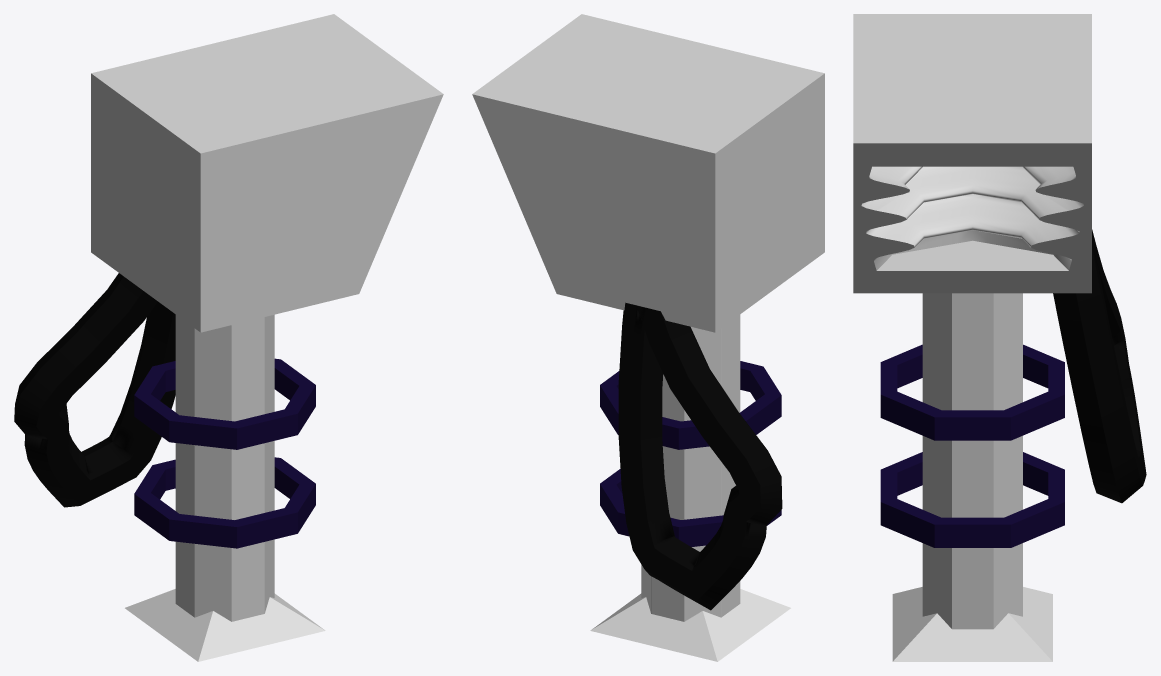
The model's file is Pole.FBX.
3 views of the same model, side by side, from view 1: azimuth 30°, elevation 25°; view 2: azimuth 150°, elevation 25°; view 3: azimuth 270°, elevation 25° (orthographic). The views are drawn at different scales.
Parts seen in each view (by area): view 1: Pole, Loft001, Gengon002, Gengon004; view 2: Pole, Loft001, Gengon004, Gengon002; view 3: Pole, Loft001, Gengon004, Gengon002.
Boxes of the visible parts, x1=… form: Pole: x1=91, y1=14, x2=443, y2=661; Loft001: x1=14, y1=273, x2=175, y2=507; Gengon002: x1=134, y1=457, x2=315, y2=548; Gengon004: x1=134, y1=358, x2=315, y2=449; Pole: x1=472, y1=14, x2=824, y2=661; Loft001: x1=618, y1=302, x2=782, y2=610; Gengon004: x1=600, y1=361, x2=781, y2=449; Gengon002: x1=600, y1=469, x2=781, y2=546; Pole: x1=853, y1=14, x2=1091, y2=661; Loft001: x1=1053, y1=229, x2=1146, y2=503; Gengon004: x1=880, y1=344, x2=1064, y2=440; Gengon002: x1=880, y1=452, x2=1064, y2=547.
Bounding box in the file's own units: 3700 × 5895 × 2738.
